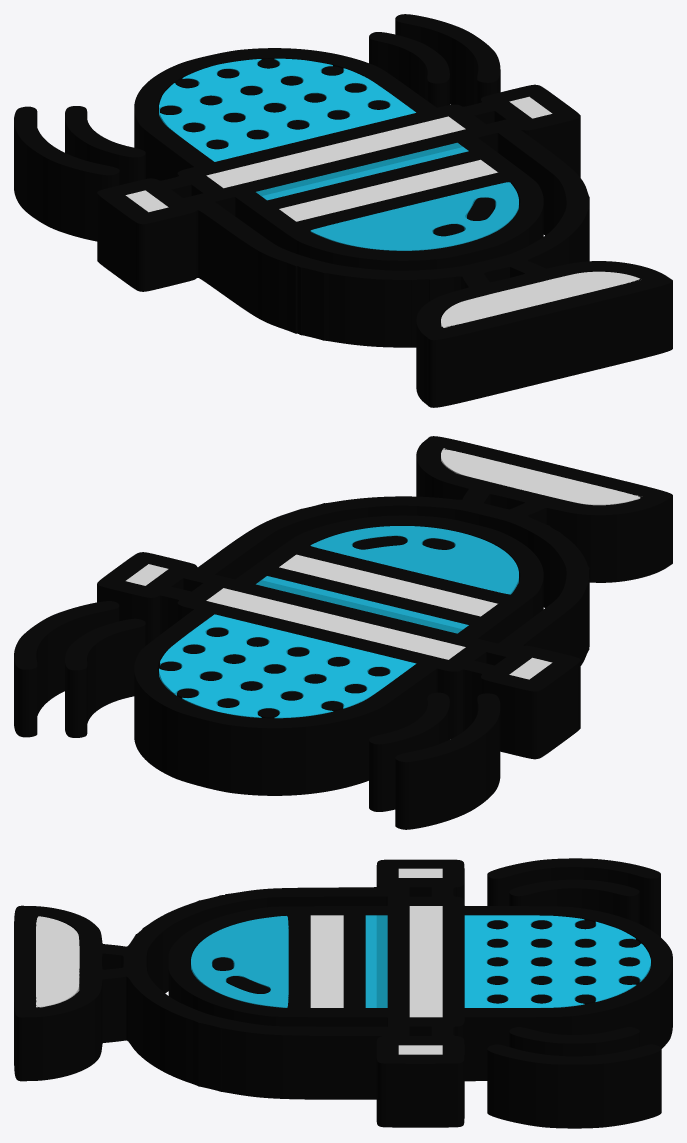
3 views of the same model, one above another, from view 1: azimuth 30°, elevation 25°; view 2: azimuth 150°, elevation 25°; view 3: azimuth 270°, elevation 25° (orthographic). The views are drawn at different scales.
Visible parts, largest first — view 1: imagetostl_mesh; view 2: imagetostl_mesh; view 3: imagetostl_mesh.
Boxes of the visible parts, box(x1,y1,x2,y2) form: imagetostl_mesh: box(14, 14, 672, 407); imagetostl_mesh: box(14, 436, 672, 829); imagetostl_mesh: box(14, 858, 672, 1128).
Size of the model in its own units: 6944 by 1000 by 9371.
